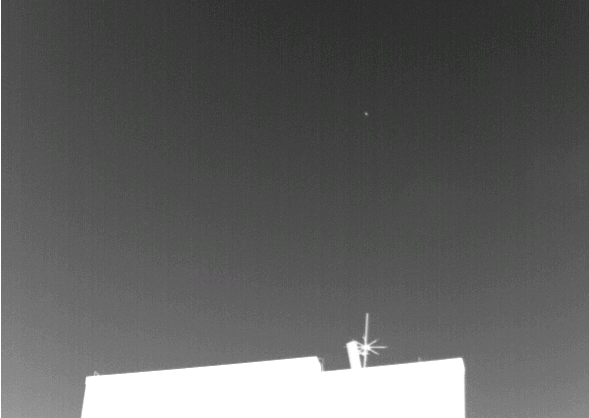dim target: (363, 111, 369, 116)
